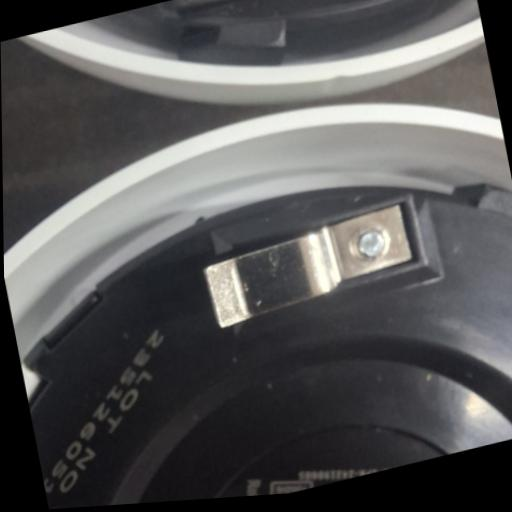yaysiz: (196, 197, 423, 332)
